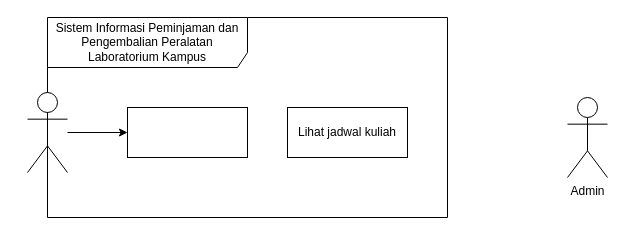
This 625x235 diagram has some shape labels left out. Here are the shapes that lost their labels. From the top down, the centre of each, then its label:
At point (47, 132): "Mahasiswa".
At point (187, 132): "Kelola jadwal kuliah".
